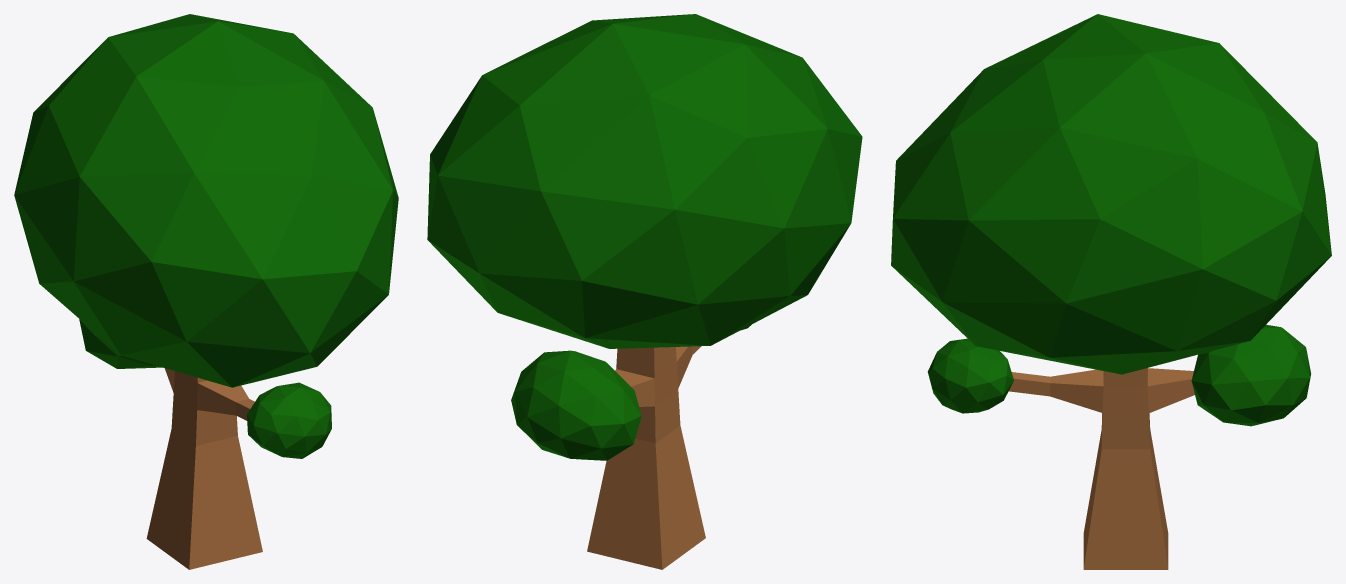
File: variant_3_dark.glb
3 views of the same model, side by side, from view 1: azimuth 30°, elevation 25°; view 2: azimuth 150°, elevation 25°; view 3: azimuth 270°, elevation 25° (orthographic). The views are drawn at different scales.
Parts seen in each view (by area): view 1: Icosphere.010; view 2: Icosphere.010; view 3: Icosphere.010.
Part boxes in pixels (x1,y1,x2,y2): Icosphere.010: (14, 14, 398, 569); Icosphere.010: (427, 14, 862, 569); Icosphere.010: (891, 14, 1331, 569).
Size of the model in its own units: 0.6044 by 0.8712 by 0.6829.
